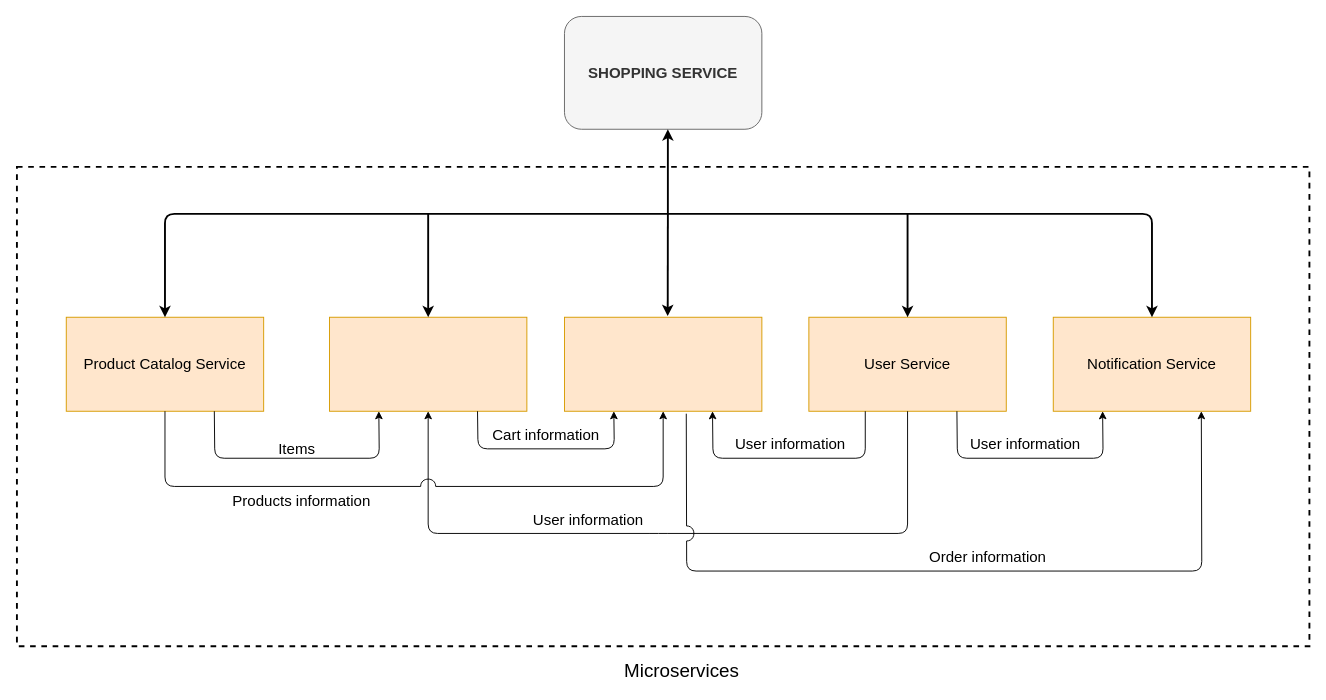
Some shapes in this 1326 by 700 pixel diagram are drawn without their labels. Here are the shapes that lost their labels. From the top down, the centre of each, then its label:
the point at 428,363: Cart Service
the point at 663,363: Order Service
